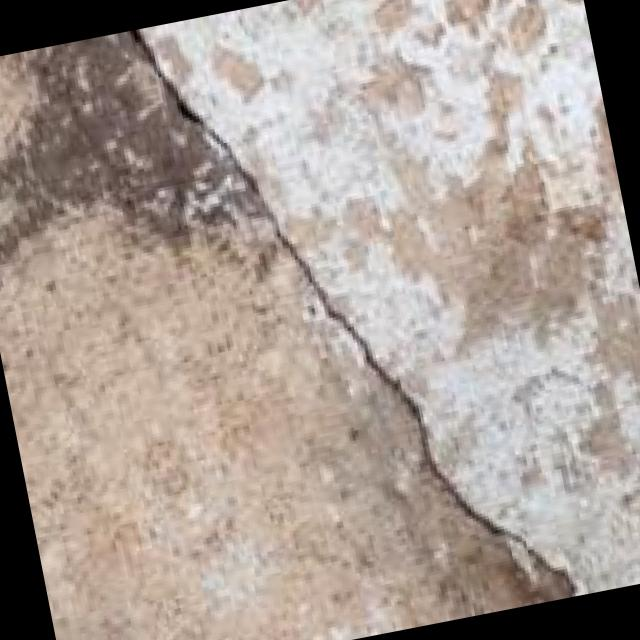crack: (60, 0, 620, 631)
